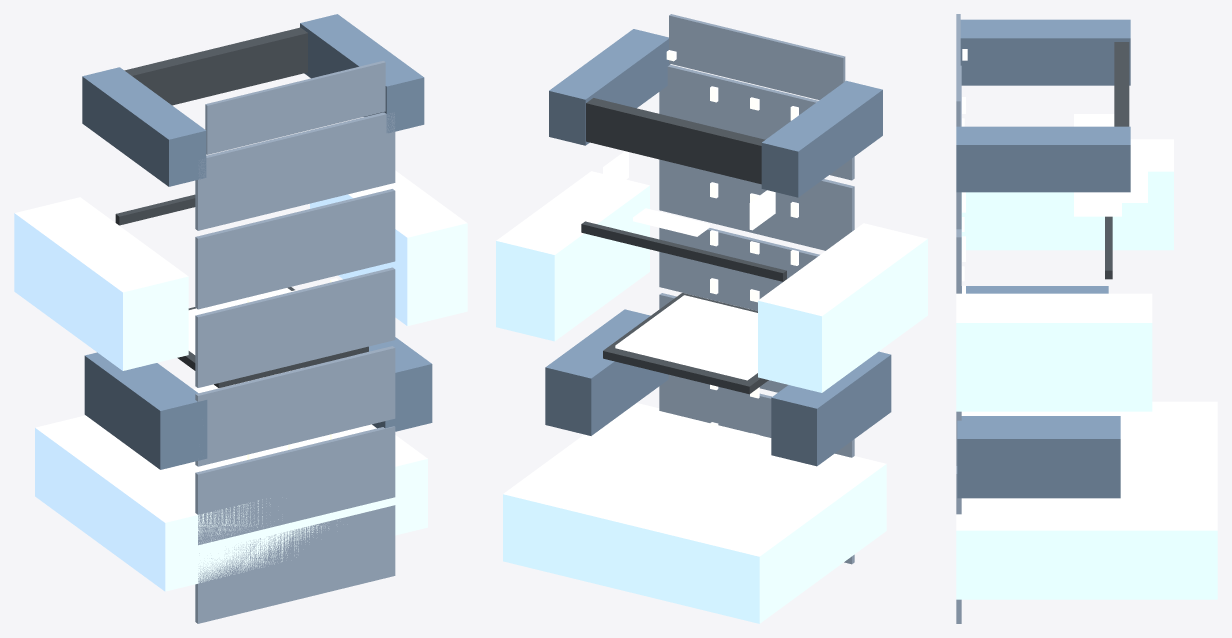
The model's file is interact_finish_frame_rift.glb.
3 renders of one model, left to right at view 1: azimuth 30°, elevation 25°; view 2: azimuth 150°, elevation 25°; view 3: azimuth 270°, elevation 25°, orthographic. The views are drawn at different scales.
Visible parts, largest first — view 1: interact_finish_frame_rift; view 2: interact_finish_frame_rift; view 3: interact_finish_frame_rift.
Boxes of the visible parts, left/top/right/bottom form: interact_finish_frame_rift: left=14, top=14, right=467, bottom=623; interact_finish_frame_rift: left=496, top=14, right=927, bottom=623; interact_finish_frame_rift: left=956, top=14, right=1217, bottom=623.
Bounding box in the file's own units: 18.35 × 26.25 × 12.
